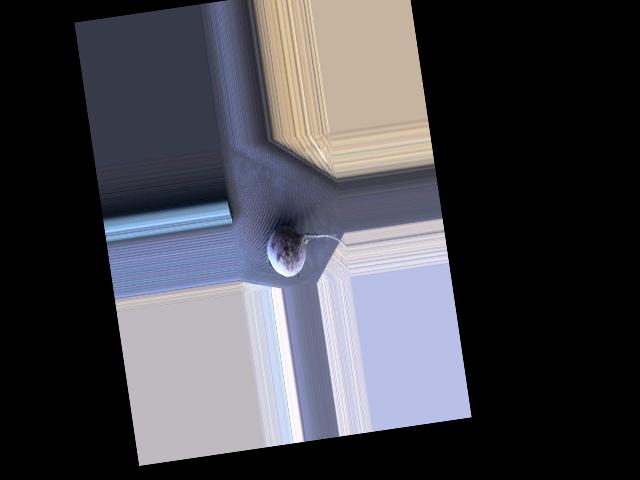beet: (263, 217, 349, 278)
